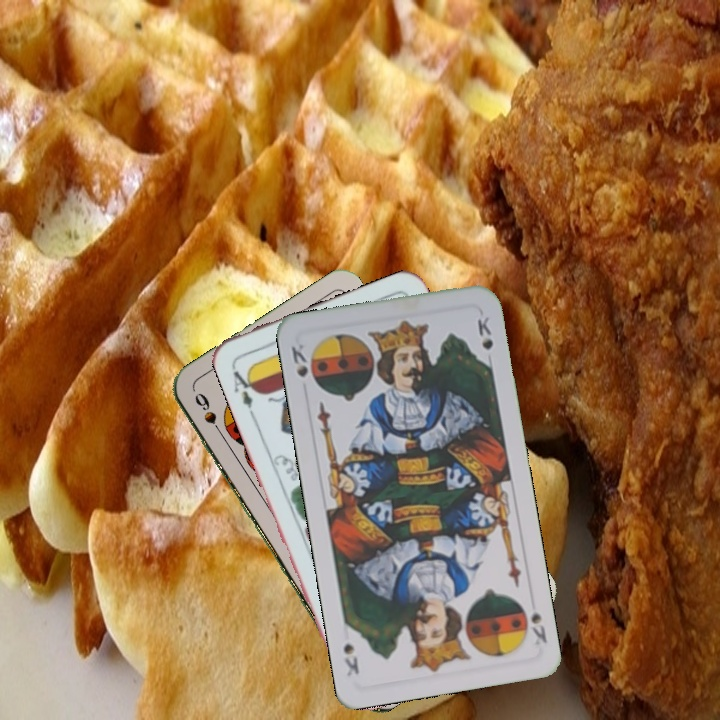EA: (228, 362, 260, 419)
S9: (190, 389, 228, 441)
SK: (287, 339, 311, 380), (527, 606, 550, 648)
